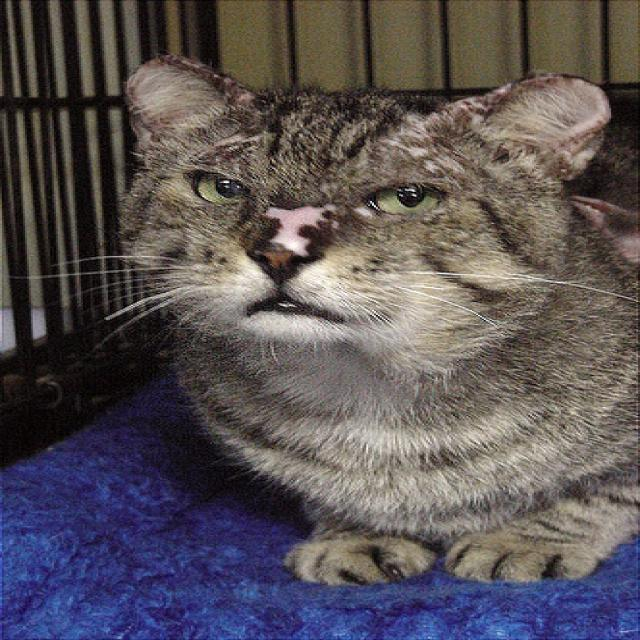cat: (13, 54, 637, 588)
